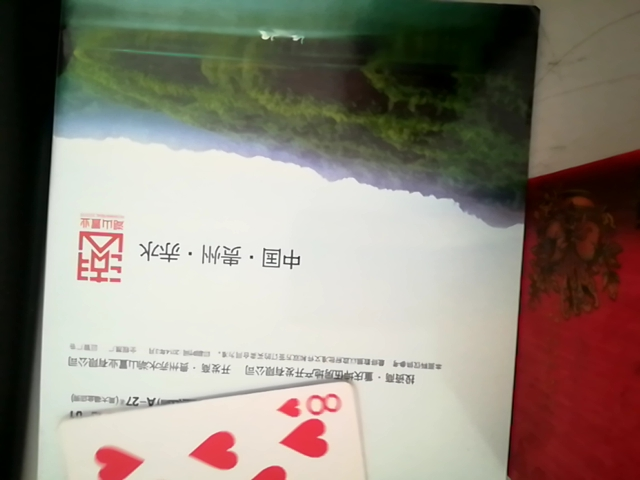hx 8: (31, 379, 372, 479)
